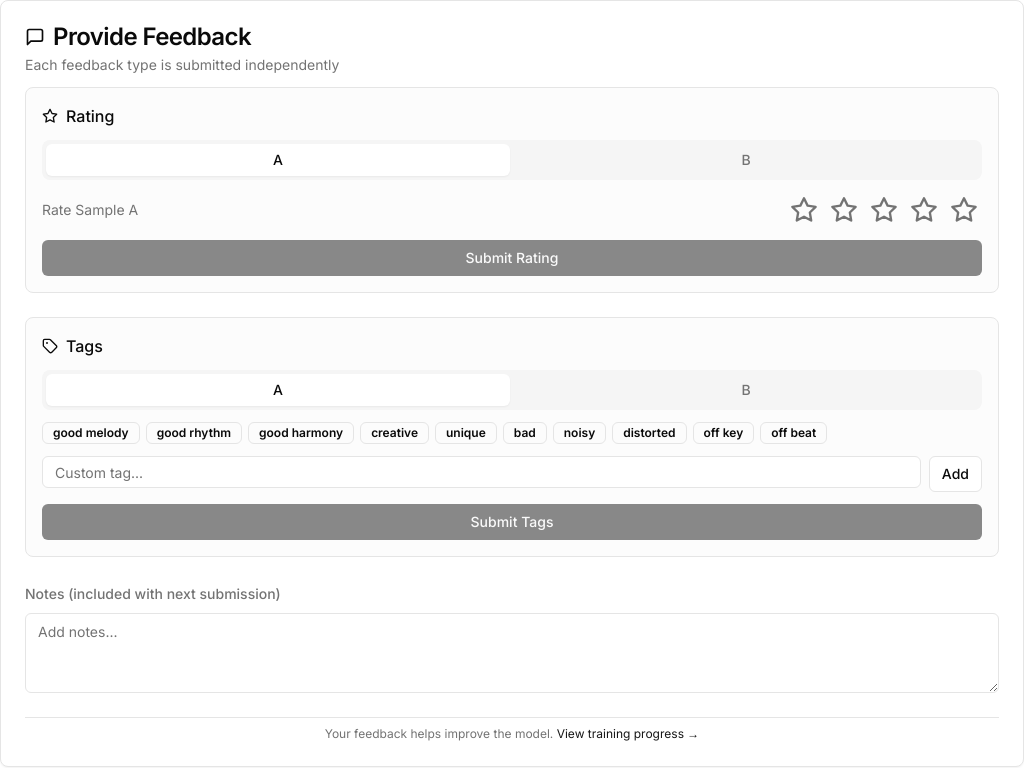
Test: FeedbackPanel › switches sample selection in rating section
Click the 1st button "B" at (746, 160), box [514,144,978,176]
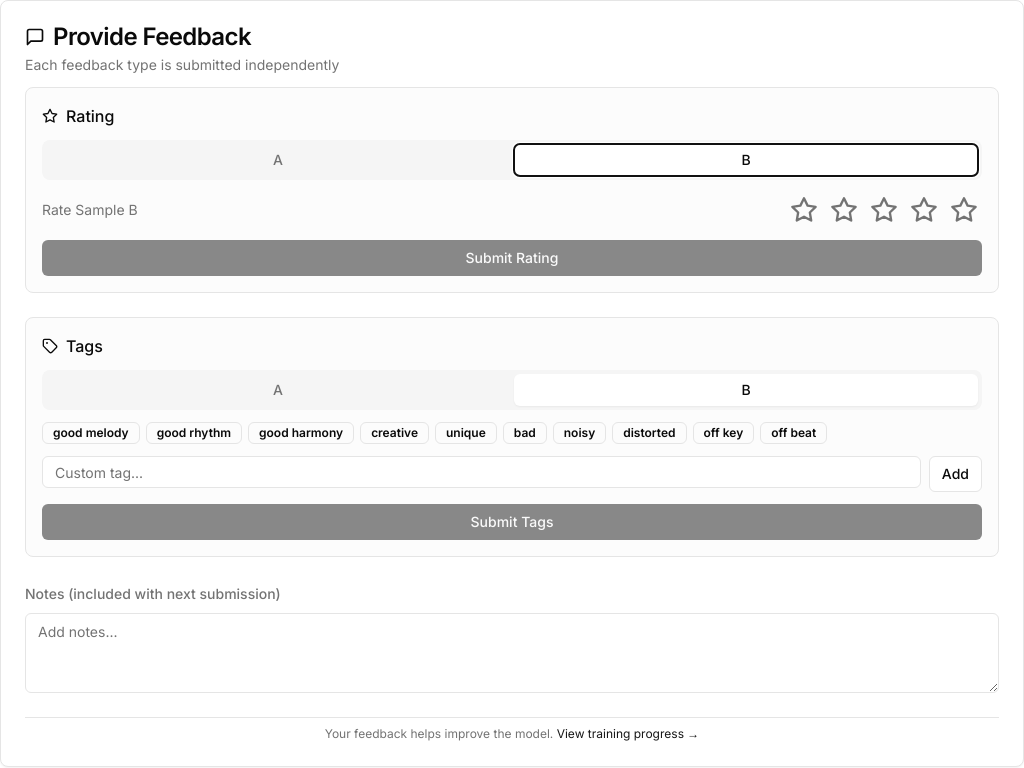
Now the text "Rate Sample B" is shown, box [42,200,138,220]
